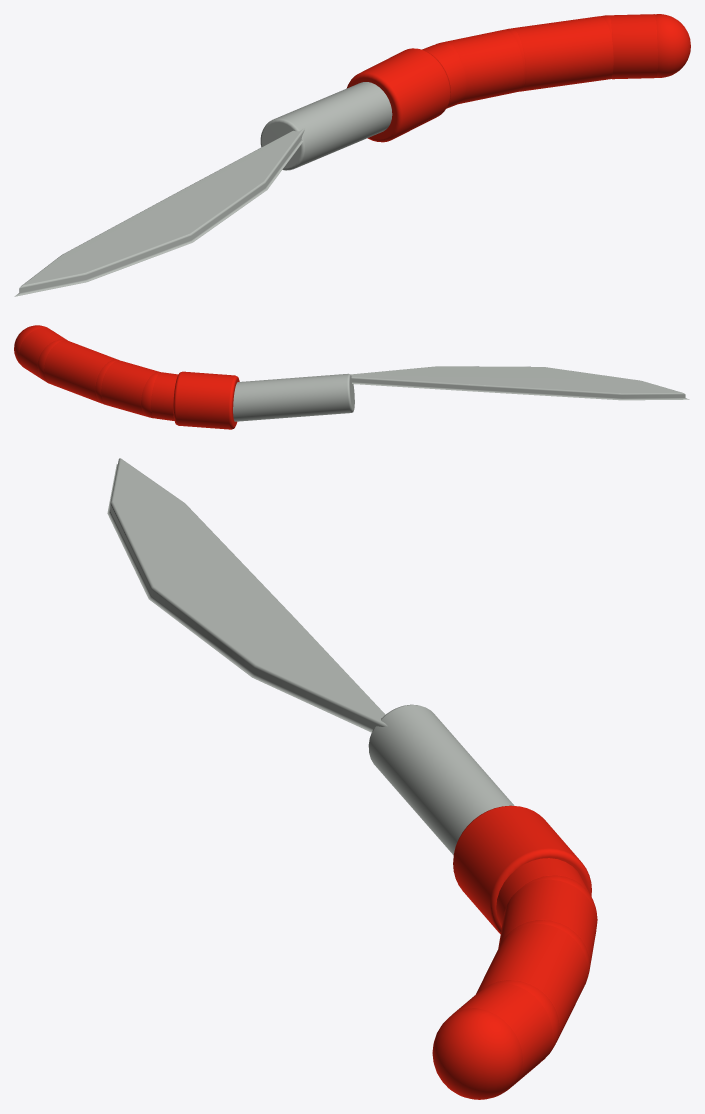
Rendered from Secateur_Moving_Half.obj.
3 renders of one model, top to bottom at view 1: azimuth 30°, elevation 25°; view 2: azimuth 150°, elevation 25°; view 3: azimuth 270°, elevation 25°, orthographic. The views are drawn at different scales.
Parts seen in each view (by area): view 1: SM_Secateur_Upper_Red_Handle_Moving, SM_Secateur_Upper_Blade_Moving, SM_Secateur_Upper_Metal_Neck, SM_Secateur_Upper_Red_Transition; view 2: SM_Secateur_Upper_Red_Handle_Moving, SM_Secateur_Upper_Blade_Moving, SM_Secateur_Upper_Metal_Neck, SM_Secateur_Upper_Red_Transition; view 3: SM_Secateur_Upper_Blade_Moving, SM_Secateur_Upper_Red_Handle_Moving, SM_Secateur_Upper_Metal_Neck, SM_Secateur_Upper_Red_Transition.
Part boxes in pixels (bbox=[...]): SM_Secateur_Upper_Red_Handle_Moving: bbox=[422, 14, 690, 108]; SM_Secateur_Upper_Blade_Moving: bbox=[14, 128, 304, 296]; SM_Secateur_Upper_Metal_Neck: bbox=[260, 82, 392, 170]; SM_Secateur_Upper_Red_Transition: bbox=[346, 48, 450, 142]; SM_Secateur_Upper_Red_Handle_Moving: bbox=[14, 325, 178, 420]; SM_Secateur_Upper_Blade_Moving: bbox=[350, 366, 689, 400]; SM_Secateur_Upper_Metal_Neck: bbox=[233, 373, 354, 421]; SM_Secateur_Upper_Red_Transition: bbox=[173, 371, 239, 429]; SM_Secateur_Upper_Blade_Moving: bbox=[107, 458, 387, 732]; SM_Secateur_Upper_Red_Handle_Moving: bbox=[432, 858, 597, 1099]; SM_Secateur_Upper_Metal_Neck: bbox=[368, 704, 514, 854]; SM_Secateur_Upper_Red_Transition: bbox=[453, 805, 591, 933].
Size of the model in its own units: 3.59 by 0.3277 by 1.31.
